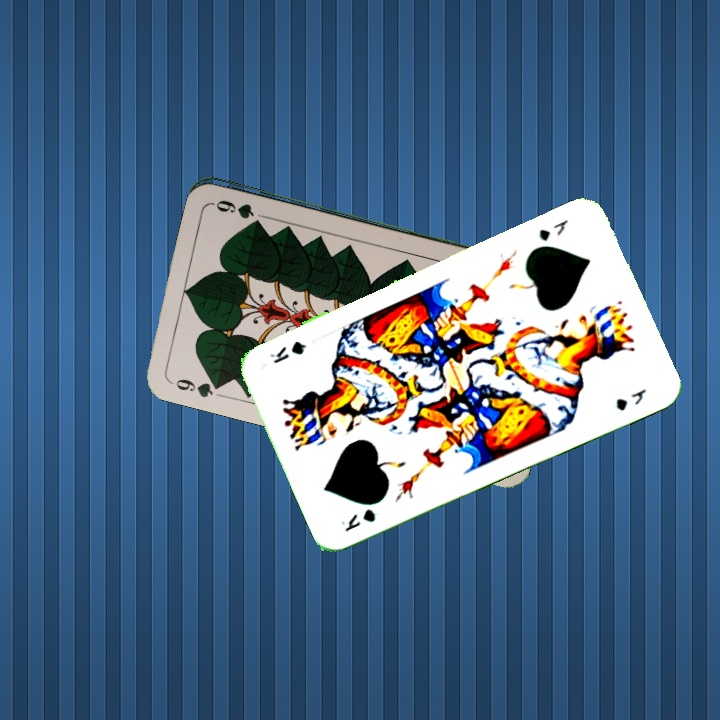G9: (165, 374, 225, 400)
GK: (337, 504, 379, 535), (535, 215, 571, 244)
